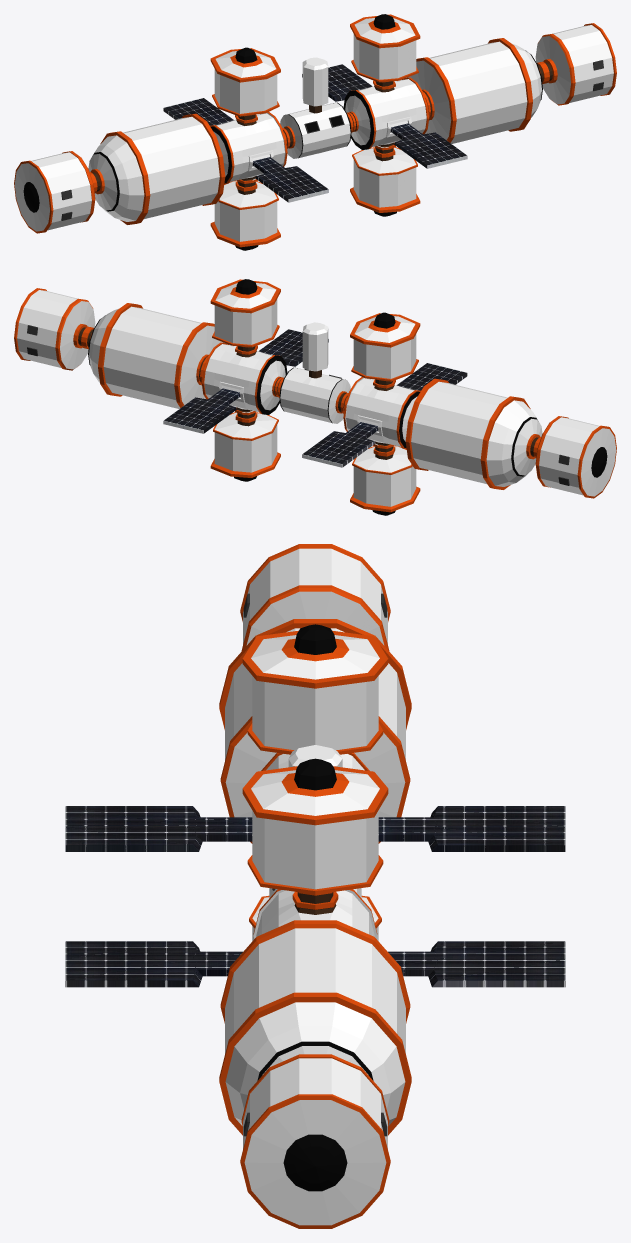
File: low_poly_space_station.gltf
The picture shows the model from 3 angles, top to bottom: view 1: azimuth 30°, elevation 25°; view 2: azimuth 150°, elevation 25°; view 3: azimuth 270°, elevation 25°; orthographic projection. The views are drawn at different scales.
Visible parts, largest first — view 1: SpaceStationMesh; view 2: SpaceStationMesh; view 3: SpaceStationMesh.
Boxes of the visible parts, bbox=[...] form: SpaceStationMesh: bbox=[14, 14, 616, 250]; SpaceStationMesh: bbox=[14, 279, 616, 515]; SpaceStationMesh: bbox=[65, 544, 565, 1228].
Size of the model in its own units: 50.22 by 16.66 by 18.96.
1 material, 1 textured.
